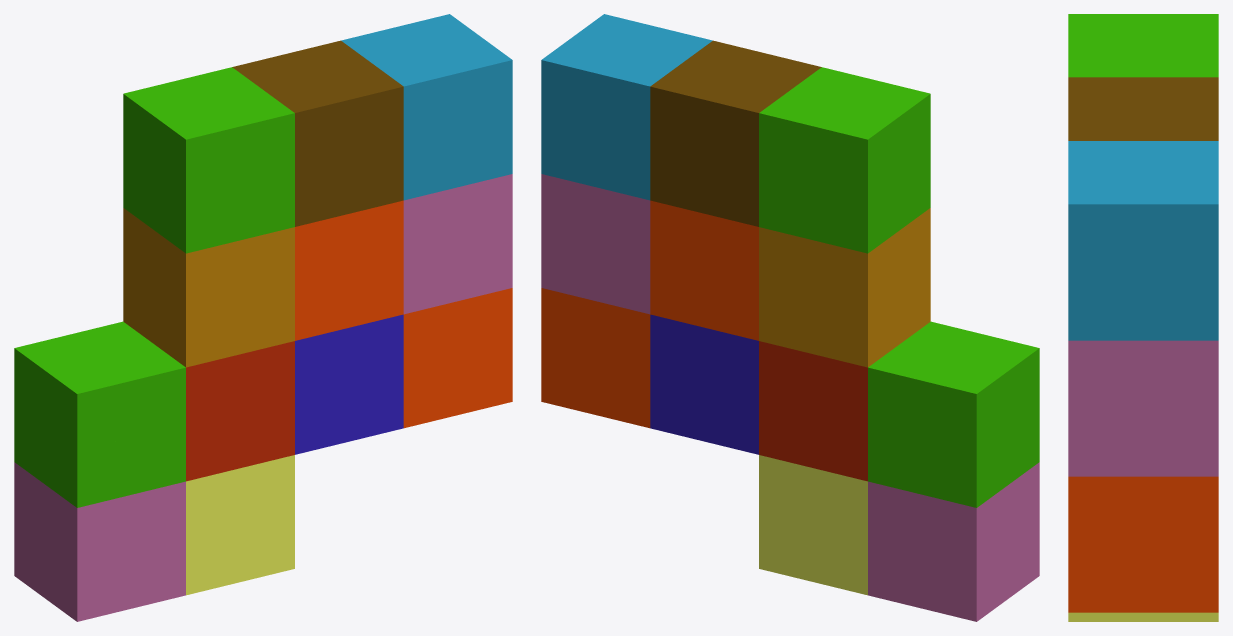
The picture shows the model from 3 angles, left to right: view 1: azimuth 30°, elevation 25°; view 2: azimuth 150°, elevation 25°; view 3: azimuth 270°, elevation 25°; orthographic projection. The views are drawn at different scales.
Parts seen in each view (by area): view 1: Null, Null_3, Null_9, Null_6, Null_1, Null_2, Null_7, Null_4, Null_5; view 2: Null, Null_3, Null_9, Null_6, Null_1, Null_2, Null_7, Null_4, Null_5; view 3: Null_1, Null_3, Null_9, Null, Null_2, Null_4.
Part boxes in pixels (left/top/right/bottom): Null: left=14, top=67, right=294, bottom=507; Null_3: left=14, top=174, right=512, bottom=621; Null_9: left=295, top=200, right=512, bottom=428; Null_6: left=123, top=208, right=294, bottom=367; Null_1: left=341, top=14, right=512, bottom=200; Null_2: left=232, top=40, right=403, bottom=226; Null_7: left=186, top=341, right=294, bottom=481; Null_4: left=186, top=455, right=294, bottom=595; Null_5: left=295, top=314, right=403, bottom=454; Null: left=759, top=67, right=1039, bottom=507; Null_3: left=541, top=174, right=1039, bottom=621; Null_9: left=541, top=200, right=758, bottom=428; Null_6: left=759, top=208, right=930, bottom=367; Null_1: left=541, top=14, right=712, bottom=200; Null_2: left=650, top=40, right=821, bottom=226; Null_7: left=759, top=341, right=867, bottom=481; Null_4: left=759, top=455, right=867, bottom=595; Null_5: left=650, top=314, right=758, bottom=454; Null_1: left=1068, top=141, right=1218, bottom=340; Null_3: left=1068, top=340, right=1218, bottom=476; Null_9: left=1068, top=476, right=1218, bottom=612; Null: left=1068, top=14, right=1218, bottom=77; Null_2: left=1068, top=77, right=1218, bottom=140; Null_4: left=1068, top=612, right=1218, bottom=621.
Size of the model in its own units: 800 by 800 by 200.
